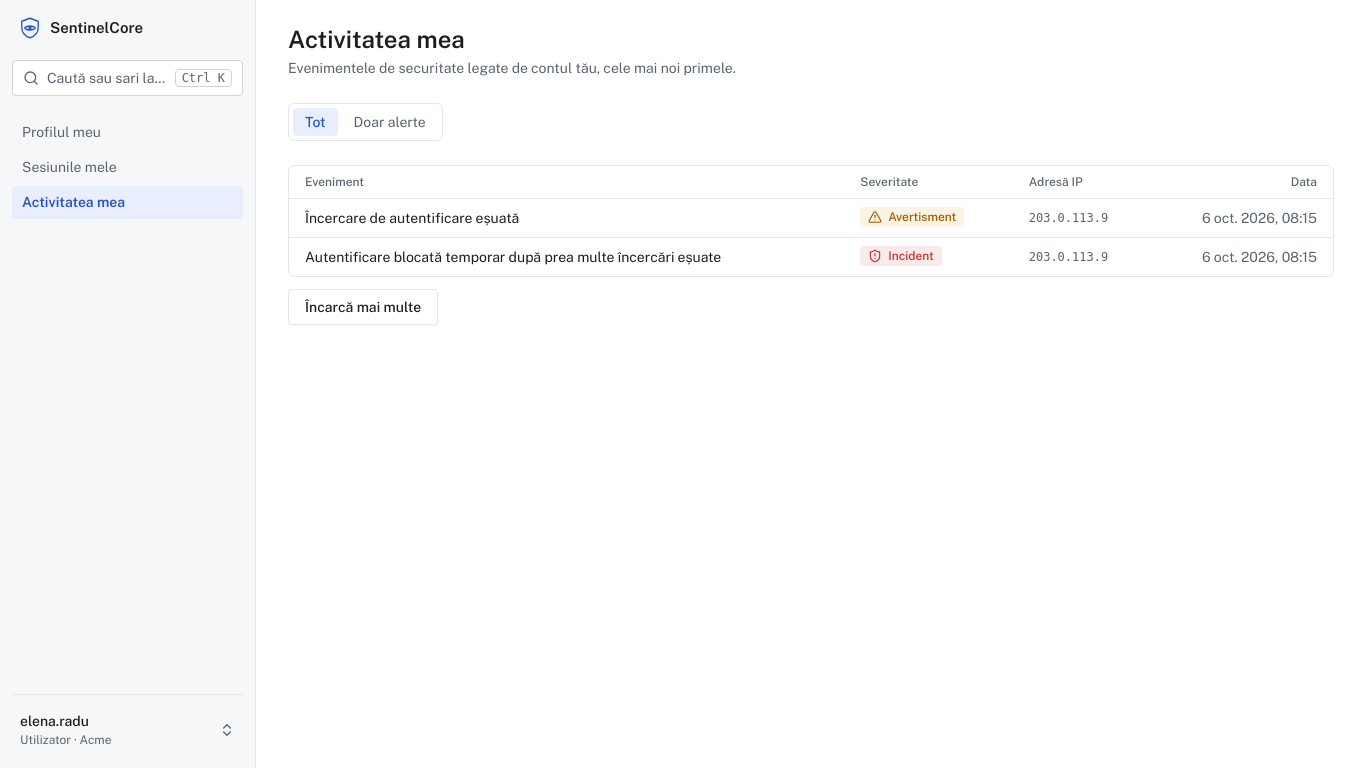
my activity page › loads older events with the cursor of the previous page
This screenshot has width=1366, height=768.
Expected: the table named "Evenimente" is shown, 289,166 -> 1333,276
Expected: the text "Ai ajuns la începutul istoricului." is not shown
Click the button "Încarcă mai multe": [363, 307] box 288,289 -> 438,325
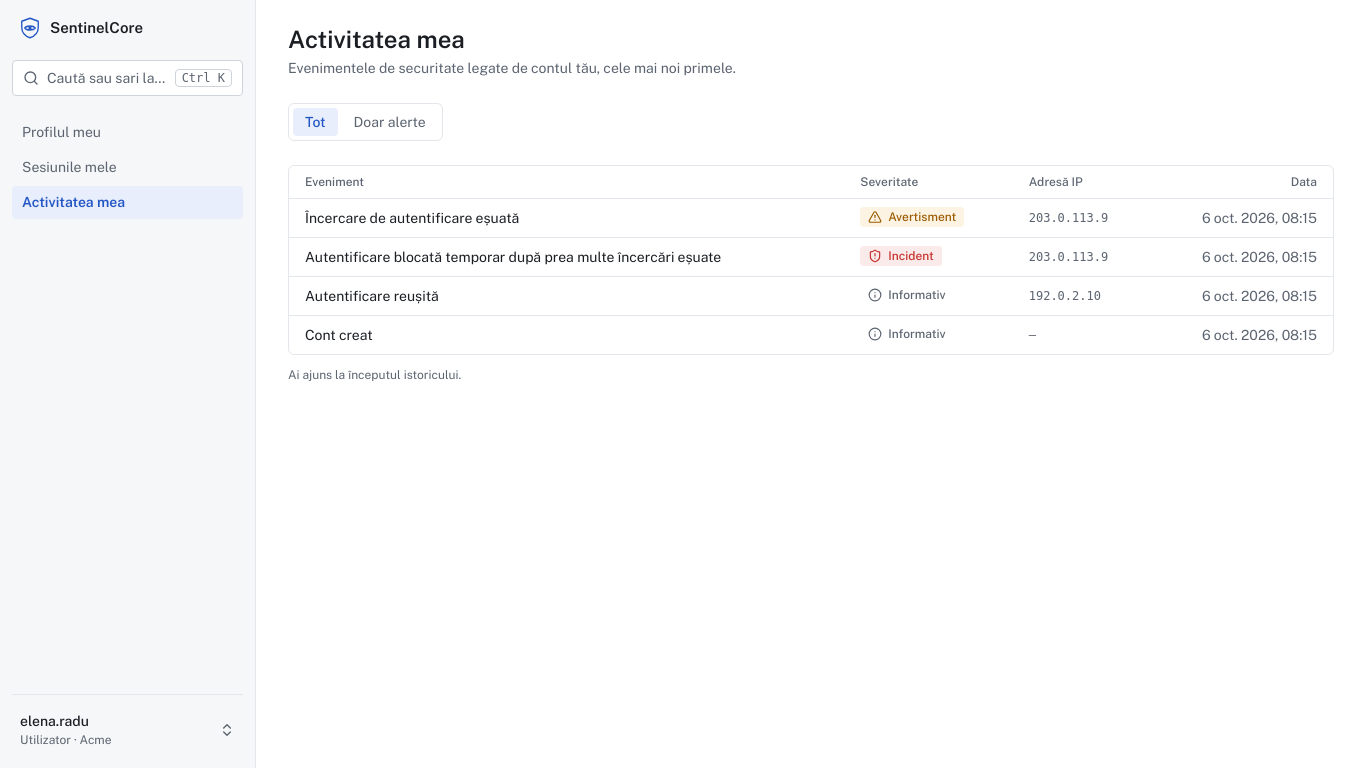
Now the text "Ai ajuns la începutul istoricului." is shown, box 288,367 -> 461,383
Now the row "Cont creat Informativ — 6 oct. 2026, 08:15" is shown, box 289,316 -> 1333,354
